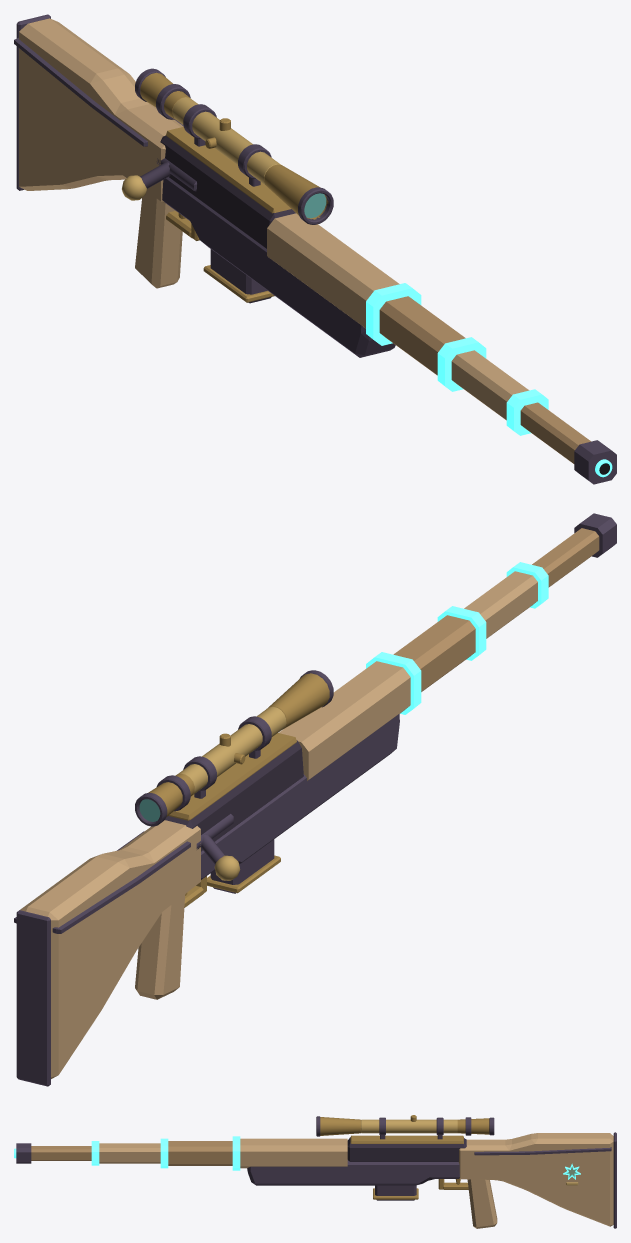
The model's file is w_sniper@sniper_star.glb.
3 renders of one model, top to bottom at view 1: azimuth 30°, elevation 25°; view 2: azimuth 150°, elevation 25°; view 3: azimuth 270°, elevation 25°, orthographic. The views are drawn at different scales.
Visible parts, largest first — view 1: stock_wzA__wood__pc8a67c, barrel_wzA__wood__pc8a67c, stock_wzA__metal2__p51465c, barrel_wzA__wood2__pb39066, body_wzB__metal__p3e3546, barrel_wzN__glow__n4effed, grip_wzA__wood__pc8a67c, scope_wzN__brass__pa8874a, scope_wzN__metal2__p51465c, scope_wzN__brass2__pc4a463, body_wzN__brass__pa8874a, barrel_wzB__metal2__p51465c (+4 smaller); view 2: stock_wzA__wood__pc8a67c, barrel_wzA__wood__pc8a67c, stock_wzA__metal2__p51465c, stock_wzB__metal2__p51465c, barrel_wzA__wood2__pb39066, body_wzB__metal__p3e3546, grip_wzA__wood__pc8a67c, scope_wzN__brass__pa8874a, barrel_wzN__glow__n4effed, scope_wzN__brass2__pc4a463, body_wzN__brass__pa8874a, scope_wzN__metal2__p51465c (+3 smaller); view 3: stock_wzA__wood__pc8a67c, barrel_wzA__wood__pc8a67c, stock_wzA__metal2__p51465c, barrel_wzA__wood2__pb39066, body_wzB__metal__p3e3546, scope_wzN__brass2__pc4a463, grip_wzA__wood__pc8a67c, scope_wzN__brass__pa8874a, body_wzN__brass__pa8874a, barrel_wzN__glow__n4effed, scope_wzN__metal2__p51465c, stock_wzN__stripe__p51465c (+5 smaller).
Part boxes in pixels (left/top/right/bottom): stock_wzA__wood__pc8a67c: left=19, top=18, right=183, bottom=203; barrel_wzA__wood__pc8a67c: left=267, top=213, right=529, bottom=420; stock_wzA__metal2__p51465c: left=162, top=177, right=395, bottom=357; barrel_wzA__wood2__pb39066: left=379, top=296, right=590, bottom=463; body_wzB__metal__p3e3546: left=160, top=135, right=295, bottom=248; barrel_wzN__glow__n4effed: left=366, top=283, right=612, bottom=477; grip_wzA__wood__pc8a67c: left=135, top=191, right=182, bottom=288; scope_wzN__brass__pa8874a: left=140, top=72, right=328, bottom=219; scope_wzN__metal2__p51465c: left=135, top=68, right=333, bottom=224; scope_wzN__brass2__pc4a463: left=172, top=97, right=280, bottom=185; body_wzN__brass__pa8874a: left=166, top=127, right=290, bottom=213; barrel_wzB__metal2__p51465c: left=574, top=440, right=616, bottom=484; stock_wzA__wood__pc8a67c: left=20, top=820, right=200, bottom=1078; barrel_wzA__wood__pc8a67c: left=279, top=571, right=537, bottom=780; stock_wzA__metal2__p51465c: left=201, top=714, right=399, bottom=879; stock_wzB__metal2__p51465c: left=16, top=910, right=50, bottom=1086; barrel_wzA__wood2__pb39066: left=393, top=528, right=599, bottom=691; body_wzB__metal__p3e3546: left=165, top=740, right=303, bottom=851; grip_wzA__wood__pc8a67c: left=135, top=894, right=185, bottom=999; scope_wzN__brass__pa8874a: left=148, top=673, right=329, bottom=817; barrel_wzN__glow__n4effed: left=366, top=562, right=548, bottom=714; scope_wzN__brass2__pc4a463: left=178, top=706, right=286, bottom=794; body_wzN__brass__pa8874a: left=168, top=733, right=296, bottom=820; scope_wzN__metal2__p51465c: left=135, top=670, right=333, bottom=826; stock_wzA__wood__pc8a67c: left=458, top=1133, right=613, bottom=1226; barrel_wzA__wood__pc8a67c: left=99, top=1138, right=347, bottom=1168; stock_wzA__metal2__p51465c: left=247, top=1160, right=459, bottom=1185; barrel_wzA__wood2__pb39066: left=31, top=1141, right=232, bottom=1165; body_wzB__metal__p3e3546: left=347, top=1137, right=466, bottom=1161; scope_wzN__brass2__pc4a463: left=361, top=1119, right=457, bottom=1133; grip_wzA__wood__pc8a67c: left=467, top=1179, right=497, bottom=1228; scope_wzN__brass__pa8874a: left=320, top=1115, right=489, bottom=1135; body_wzN__brass__pa8874a: left=350, top=1135, right=463, bottom=1143; barrel_wzN__glow__n4effed: left=14, top=1136, right=240, bottom=1170; scope_wzN__metal2__p51465c: left=316, top=1116, right=494, bottom=1139; stock_wzN__stripe__p51465c: left=474, top=1147, right=611, bottom=1155.
Bounding box in the file's own units: 0.1716 × 0.4243 × 2.09.
